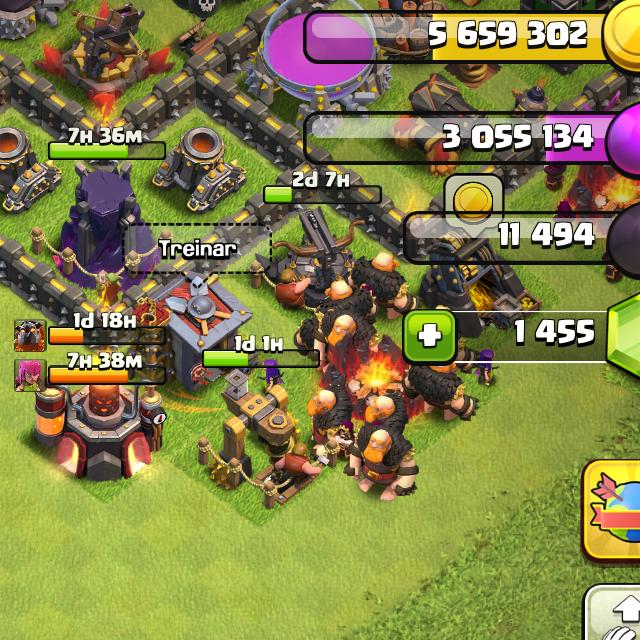coin: (446, 175, 502, 212)
